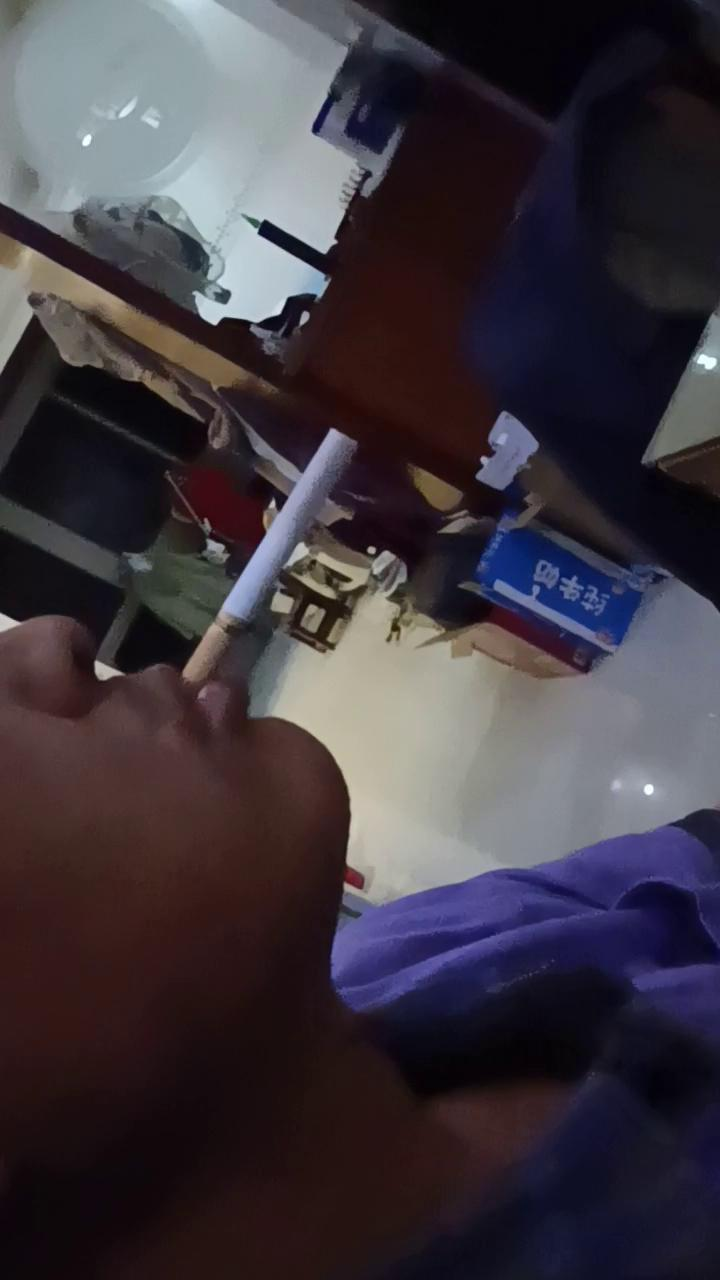smoke: (180, 422, 361, 688)
